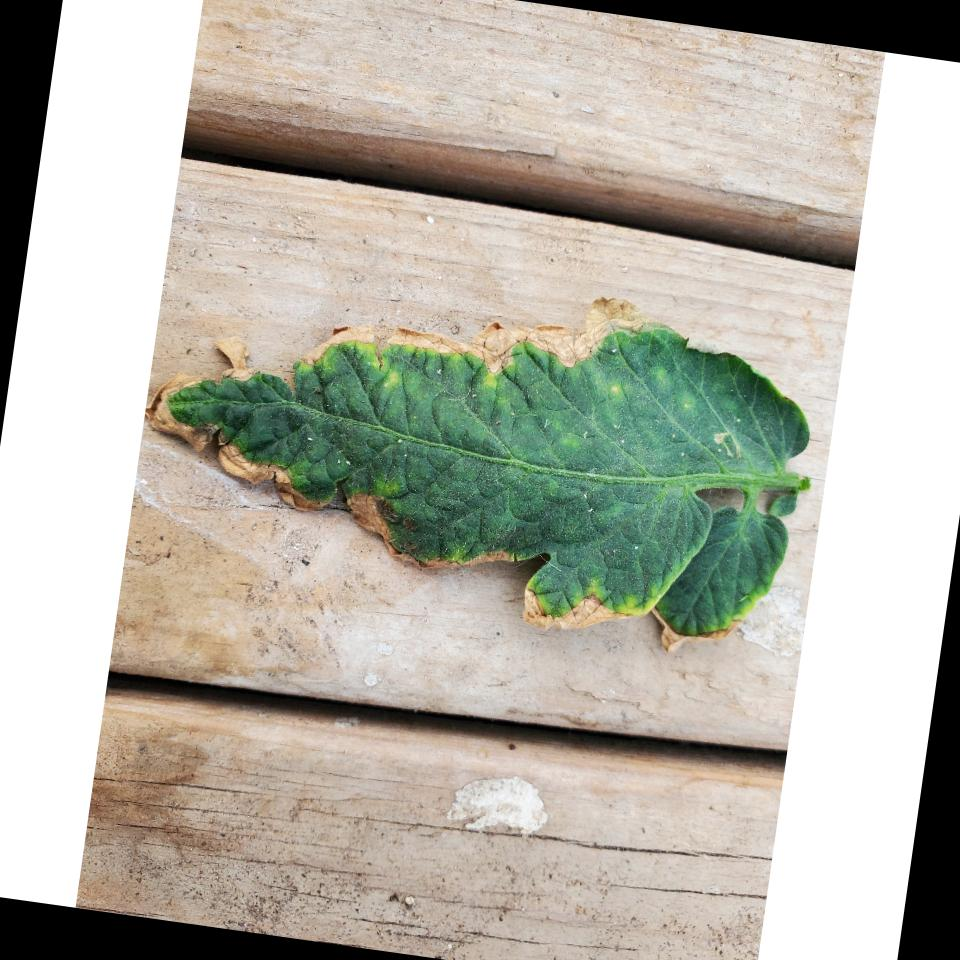tomato_bacterial_blight: (122, 231, 836, 668)
